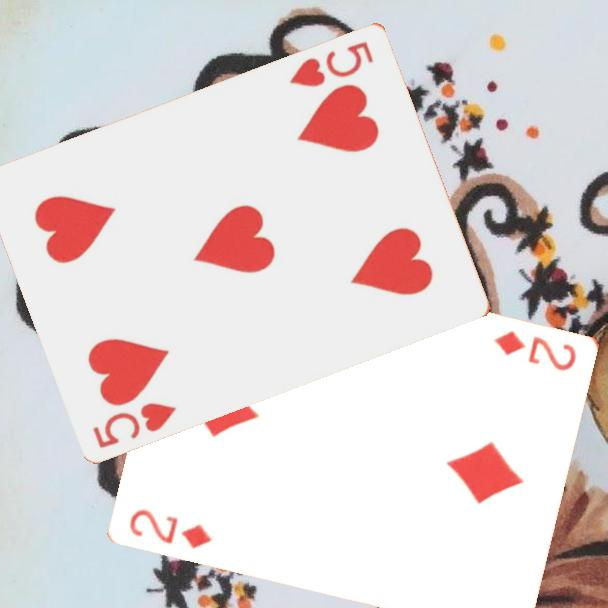d02: (491, 326, 580, 374), (126, 505, 215, 551)
h05: (89, 398, 180, 451), (286, 37, 377, 89)
